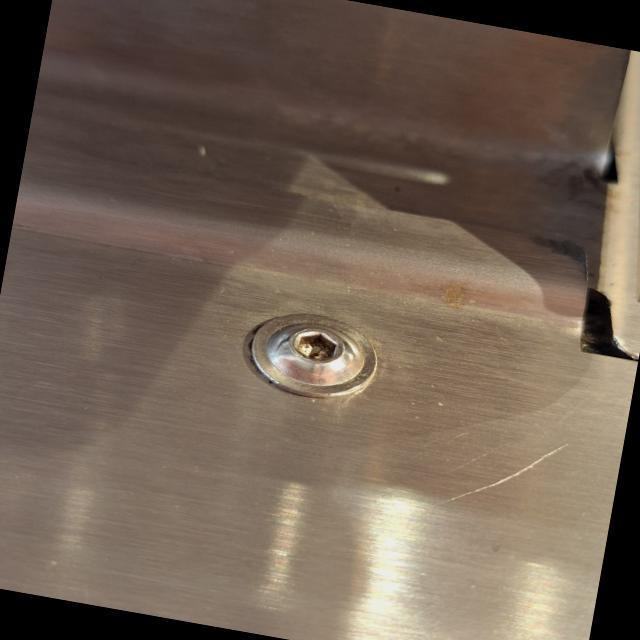Hex Socket Allen: (217, 297, 428, 430)
